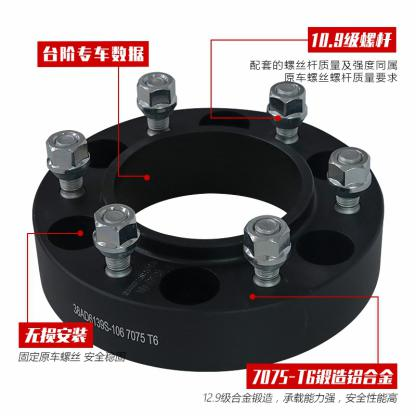FOD: (28, 97, 392, 374)
